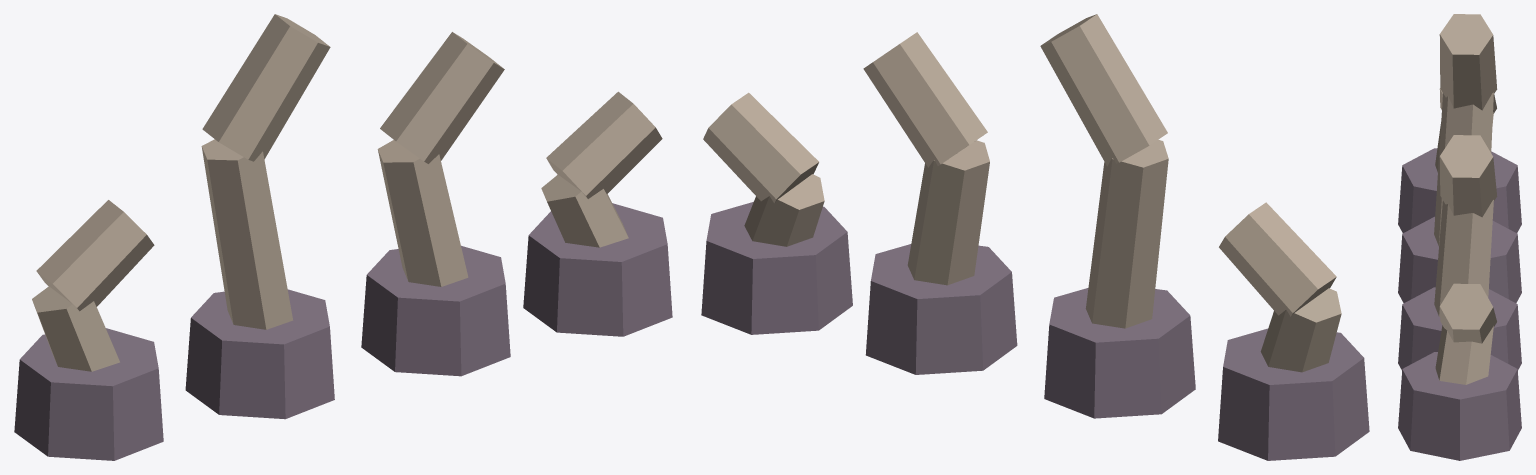
Rendered from map-exclusive-v3__dragon_14.glb.
The picture shows the model from 3 angles, left to right: view 1: azimuth 30°, elevation 25°; view 2: azimuth 150°, elevation 25°; view 3: azimuth 270°, elevation 25°; orthographic projection. The views are drawn at different scales.
Parts seen in each view (by area): view 1: dragon_14; view 2: dragon_14; view 3: dragon_14.
Boxes of the visible parts, x1=… form: dragon_14: x1=14, y1=14, x2=672, y2=460; dragon_14: x1=701, y1=14, x2=1369, y2=460; dragon_14: x1=1398, y1=14, x2=1521, y2=460.
Bounding box in the file's own units: 2.75 × 1.48 × 0.5654.
